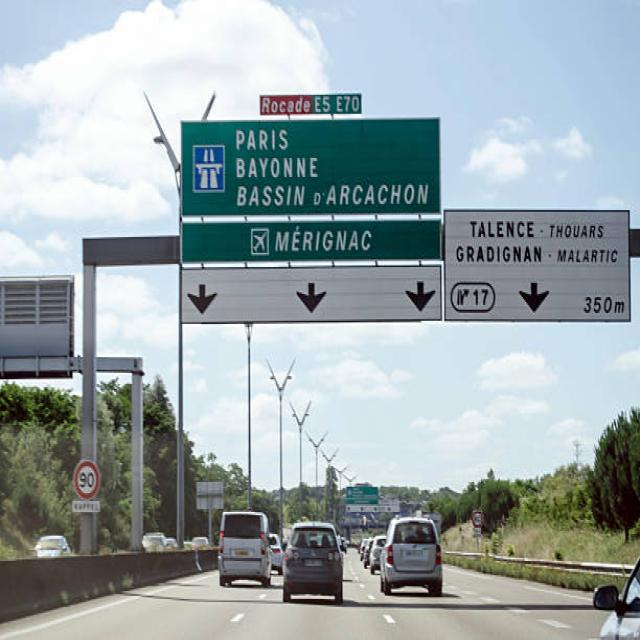Billboard_LHS: (191, 470, 231, 520)
Billboard_overhead: (181, 123, 443, 209), (446, 207, 631, 320), (182, 265, 440, 325), (182, 216, 440, 260), (260, 86, 365, 118)
Billboard_overhead_small: (344, 476, 382, 516)
Billboard_small: (74, 448, 104, 523), (470, 499, 484, 537)
Roadcorner: (9, 560, 211, 638), (495, 562, 595, 608)
Roadlane: (444, 571, 594, 638), (349, 553, 424, 632), (207, 571, 280, 638)
